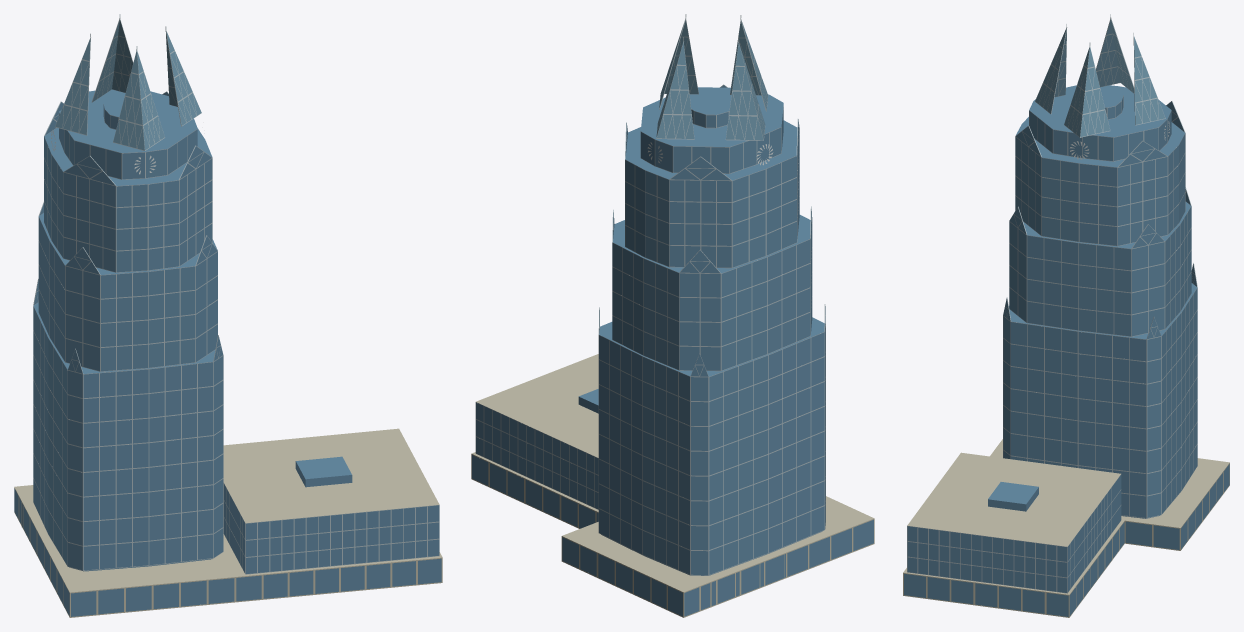
The model's file is frost-bank-tower-far.glb.
3 renders of one model, left to right at view 1: azimuth 30°, elevation 25°; view 2: azimuth 150°, elevation 25°; view 3: azimuth 270°, elevation 25°, orthographic. The views are drawn at different scales.
Parts seen in each view (by area): view 1: frost-bank-tower-0-glass, frost-bank-tower-0-blueGlass, frost-bank-tower-0-stone, frost-bank-tower-0-trim, frost-bank-tower-0-roof, frost-bank-tower-0-light, frost-bank-tower-0-occupiedGlass; view 2: frost-bank-tower-0-glass, frost-bank-tower-0-blueGlass, frost-bank-tower-0-trim, frost-bank-tower-0-stone, frost-bank-tower-0-roof, frost-bank-tower-0-light, frost-bank-tower-0-occupiedGlass; view 3: frost-bank-tower-0-glass, frost-bank-tower-0-blueGlass, frost-bank-tower-0-trim, frost-bank-tower-0-stone, frost-bank-tower-0-roof, frost-bank-tower-0-light, frost-bank-tower-0-occupiedGlass.
Part boxes in pixels (bbox=[...]): frost-bank-tower-0-glass: bbox=[33, 113, 213, 570]; frost-bank-tower-0-blueGlass: bbox=[14, 129, 441, 616]; frost-bank-tower-0-stone: bbox=[14, 428, 442, 617]; frost-bank-tower-0-trim: bbox=[33, 14, 439, 574]; frost-bank-tower-0-roof: bbox=[33, 89, 352, 487]; frost-bank-tower-0-light: bbox=[55, 20, 201, 150]; frost-bank-tower-0-occupiedGlass: bbox=[37, 170, 217, 521]; frost-bank-tower-0-glass: bbox=[599, 127, 824, 574]; frost-bank-tower-0-blueGlass: bbox=[472, 107, 873, 616]; frost-bank-tower-0-trim: bbox=[475, 14, 825, 575]; frost-bank-tower-0-stone: bbox=[471, 354, 874, 617]; frost-bank-tower-0-roof: bbox=[578, 85, 825, 413]; frost-bank-tower-0-light: bbox=[656, 20, 767, 140]; frost-bank-tower-0-occupiedGlass: bbox=[610, 180, 812, 519]; frost-bank-tower-0-glass: bbox=[1011, 111, 1197, 517]; frost-bank-tower-0-blueGlass: bbox=[904, 111, 1229, 616]; frost-bank-tower-0-trim: bbox=[907, 14, 1197, 593]; frost-bank-tower-0-stone: bbox=[903, 439, 1229, 617]; frost-bank-tower-0-roof: bbox=[988, 85, 1197, 511]; frost-bank-tower-0-light: bbox=[1035, 19, 1165, 136]; frost-bank-tower-0-occupiedGlass: bbox=[1011, 142, 1183, 461].
Bounding box in the file's own units: 115 × 157 × 97.7.
